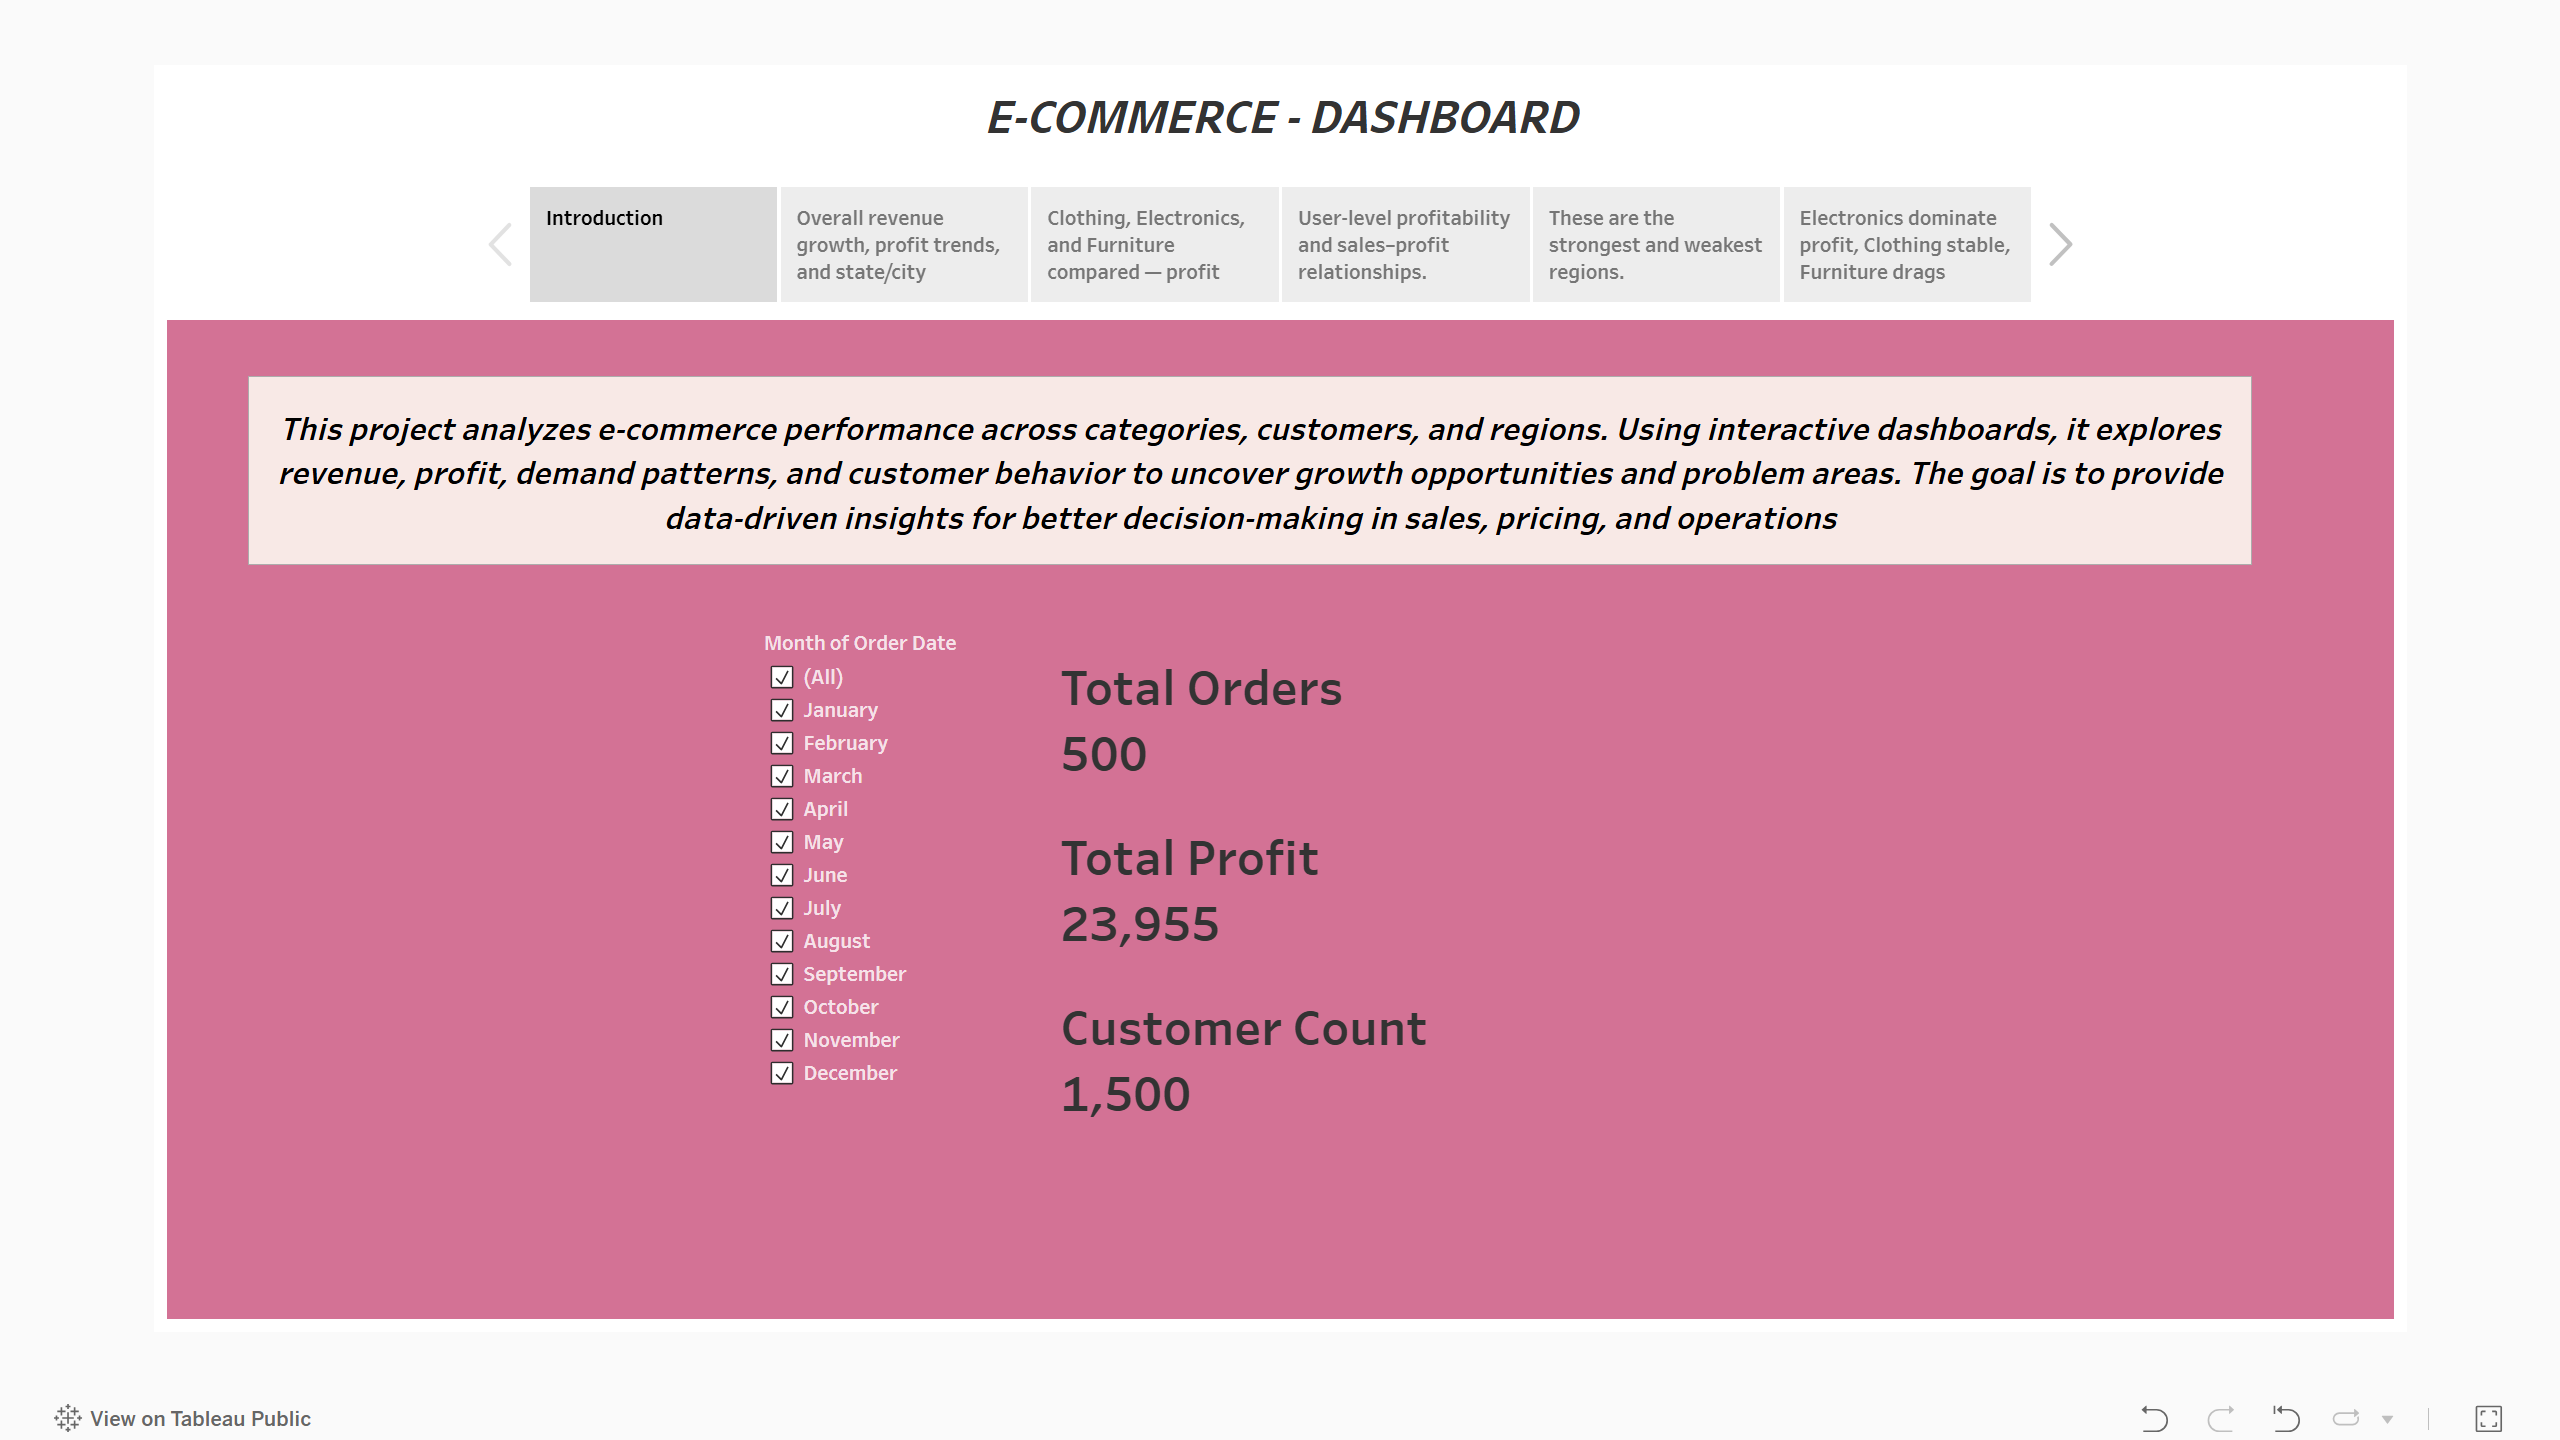

The page's visual inventory and layout, read from the dashboard file:
{"tool":"tableau","page":{"name":"Overview","canvas":[1000,1000],"units":"permille","ordinal":3},"visuals":[{"type":"filter","title":"total_orders","param":"[federated.1dc9i420t5on941e81dtr1lsql6r].[mn:Order Date:ok]","box":[12.3,301.8,270.8,523.2]},{"type":"worksheet","title":"total_orders","mark":"Automatic","box":[283.1,301.8,704.6,183.9]},{"type":"worksheet","title":"total_profit","mark":"Automatic","box":[283.1,485.7,704.6,183.9]},{"type":"worksheet","title":"customer_count","mark":"Automatic","box":[283.1,669.6,704.6,191.1]}]}

Visuals, with their boxes on the dashboard's canvas, which has no fixed pixel size, in thousandths of its width and height (x1, y1, x2, y2). These are canvas units, not pixel positions in the 2560x1440 screenshot, which may show the page scaled, cropped or inside an application window:
"total_orders" filter: detection(12, 302, 283, 825)
"total_orders" worksheet: detection(283, 302, 988, 486)
"total_profit" worksheet: detection(283, 486, 988, 670)
"customer_count" worksheet: detection(283, 670, 988, 861)
